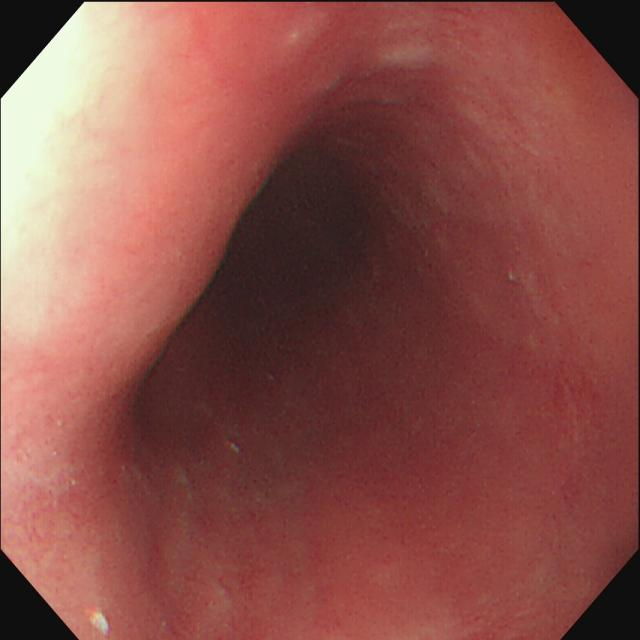J: (87, 611, 112, 636)
